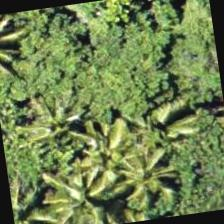Kelapa_Sawit: (9, 76, 111, 178), (95, 122, 198, 223), (53, 111, 155, 212), (29, 153, 129, 223), (8, 170, 65, 223)
